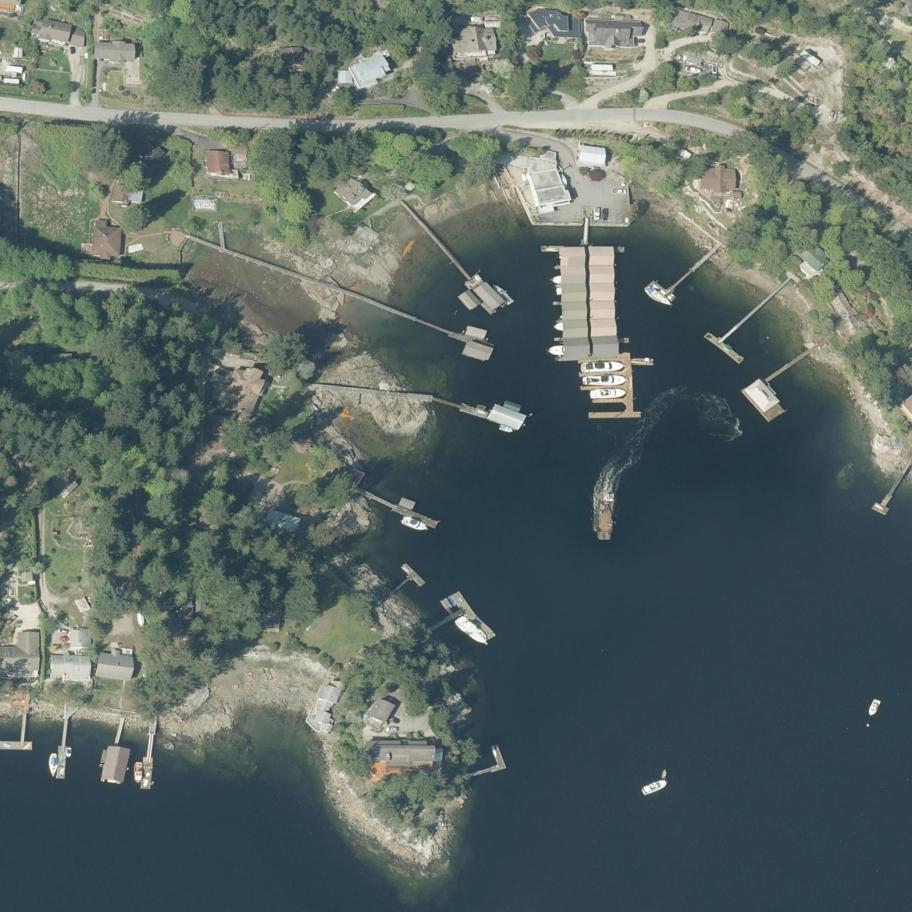ship: (451, 611, 492, 652), (596, 489, 617, 543), (640, 281, 675, 312), (488, 280, 516, 308), (581, 373, 629, 387), (400, 515, 431, 536), (580, 360, 626, 374), (640, 777, 669, 798), (554, 321, 591, 333), (546, 344, 582, 356), (589, 388, 628, 399), (866, 697, 883, 718), (547, 275, 583, 284), (47, 752, 58, 777), (631, 357, 654, 367), (497, 423, 515, 435), (134, 762, 144, 783), (683, 65, 703, 74), (136, 612, 146, 627), (661, 768, 668, 780), (66, 748, 72, 758)
small-vehicle: (327, 83, 341, 98), (5, 613, 18, 626), (386, 716, 400, 725), (56, 627, 70, 635), (601, 208, 609, 221), (711, 67, 718, 80), (594, 207, 601, 220), (5, 606, 19, 612), (613, 189, 627, 195), (828, 110, 836, 120), (386, 727, 400, 732), (70, 47, 77, 55), (60, 636, 69, 641)
